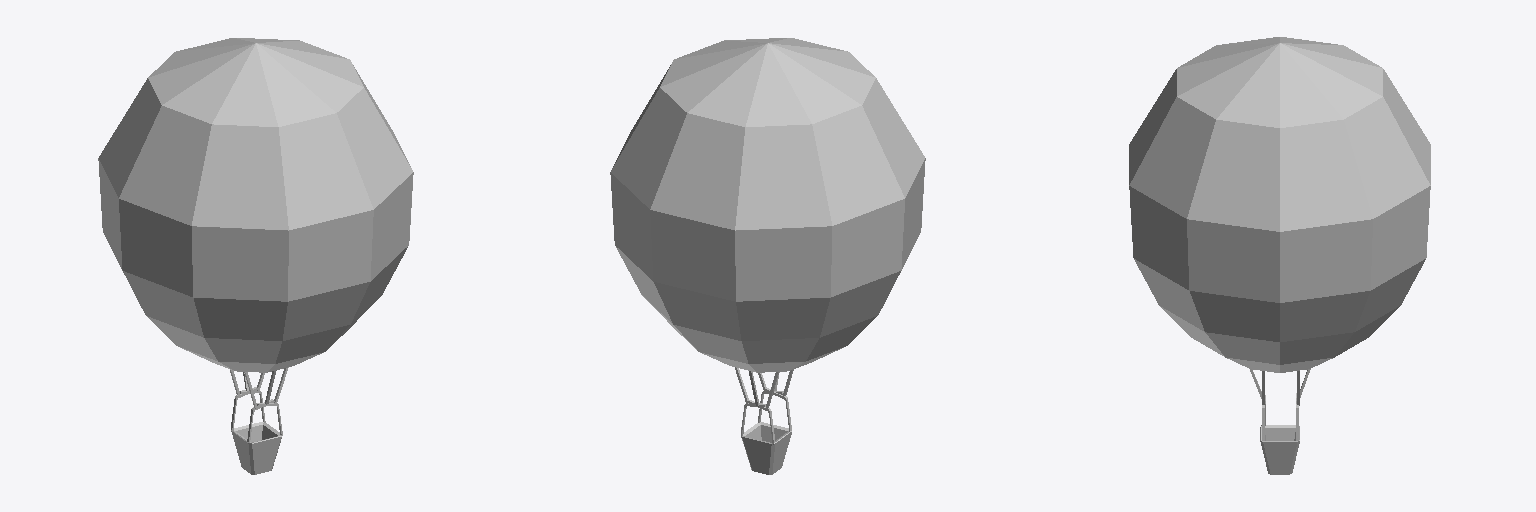
The model's file is ballon.obj.
The picture shows the model from 3 angles: view 1: azimuth 30°, elevation 25°; view 2: azimuth 150°, elevation 25°; view 3: azimuth 270°, elevation 25°; orthographic projection.
Visible parts, largest first — view 1: ballon:pCube850; view 2: ballon:pCube850; view 3: ballon:pCube850.
Part boxes in pixels (x1,y1,x2,y2): ballon:pCube850: (98,38,413,474); ballon:pCube850: (610,38,925,474); ballon:pCube850: (1129,37,1430,474).
Size of the model in its own units: 20.42 by 30.25 by 19.42.